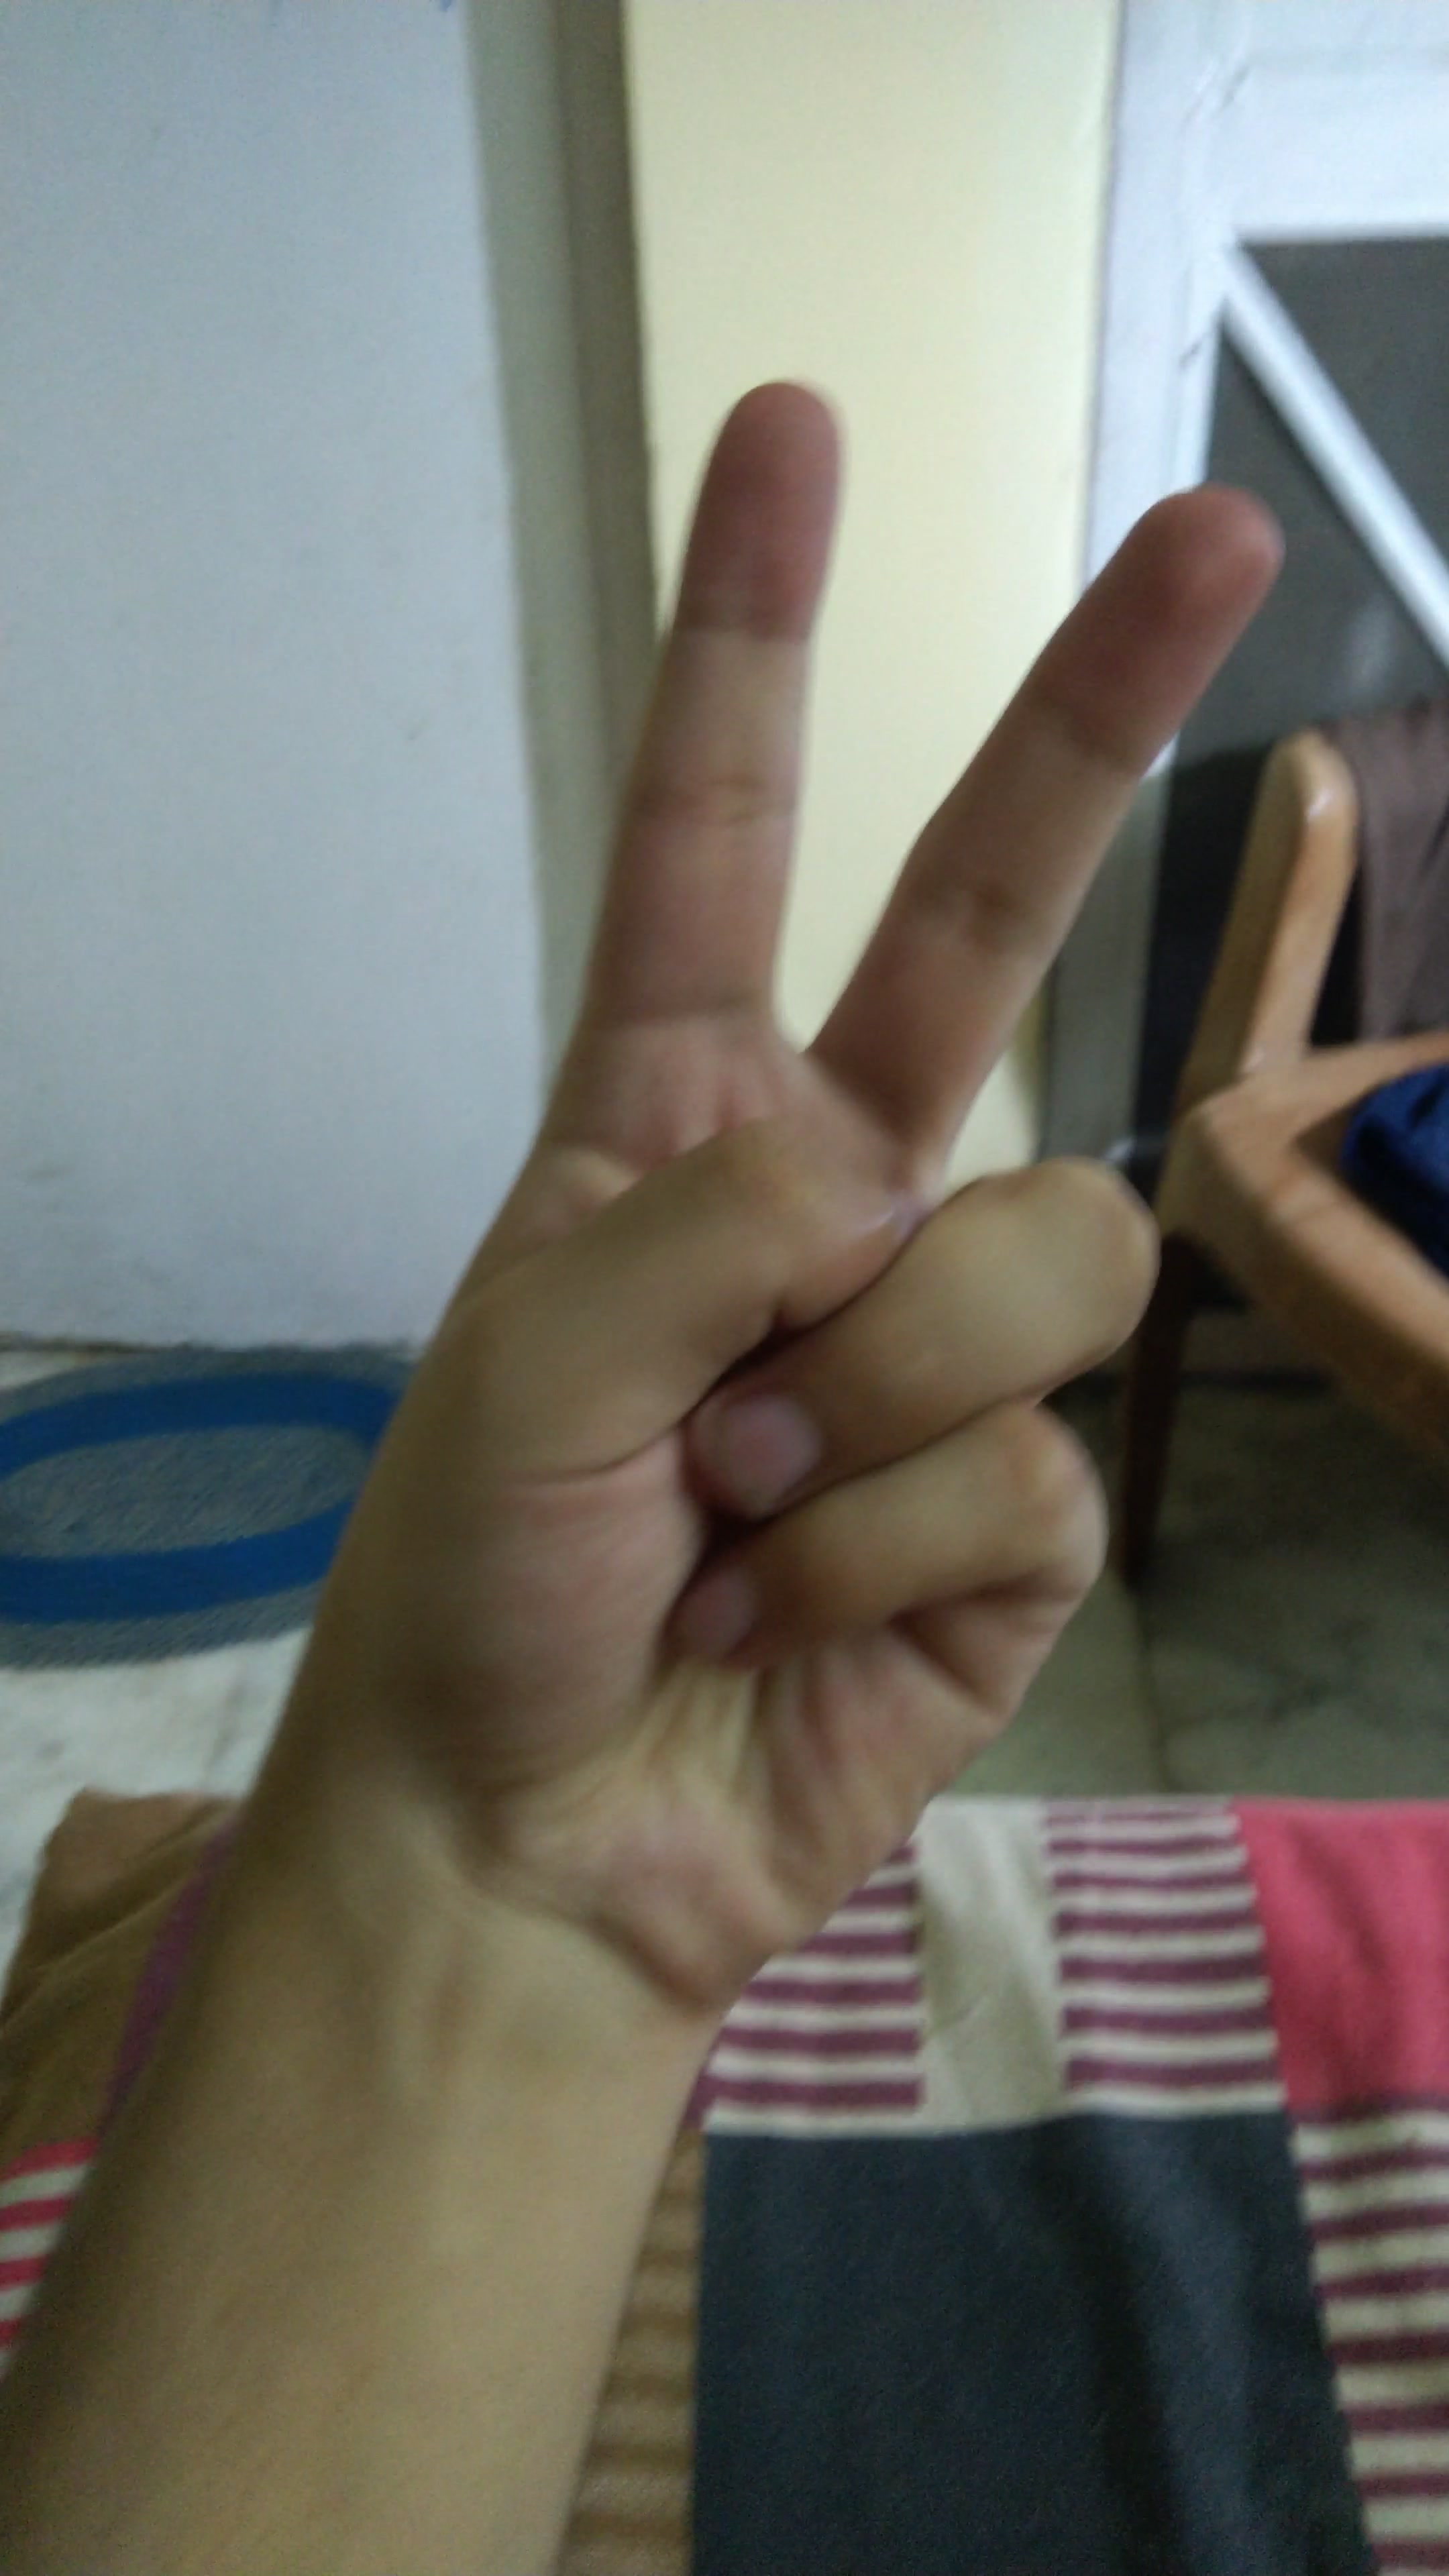hand: (119, 329, 1295, 2019)
